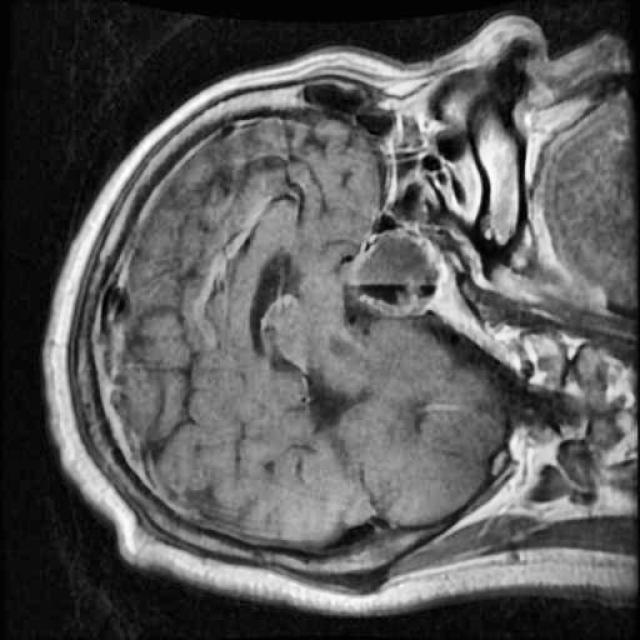Tumor: (335, 216, 455, 331)
